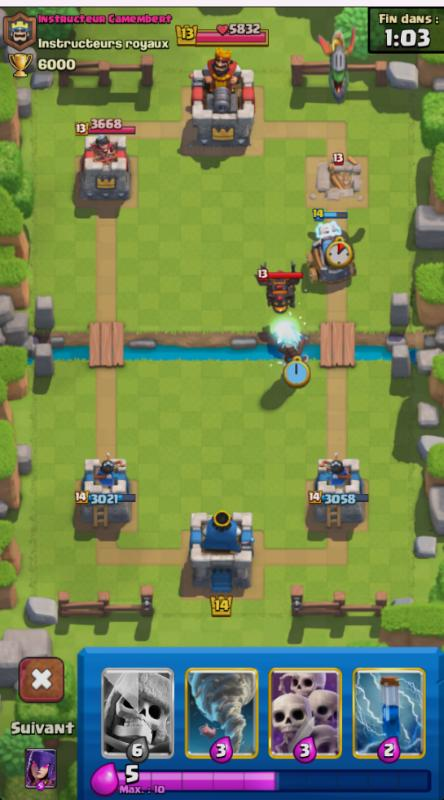zappy: (303, 214, 356, 279)
